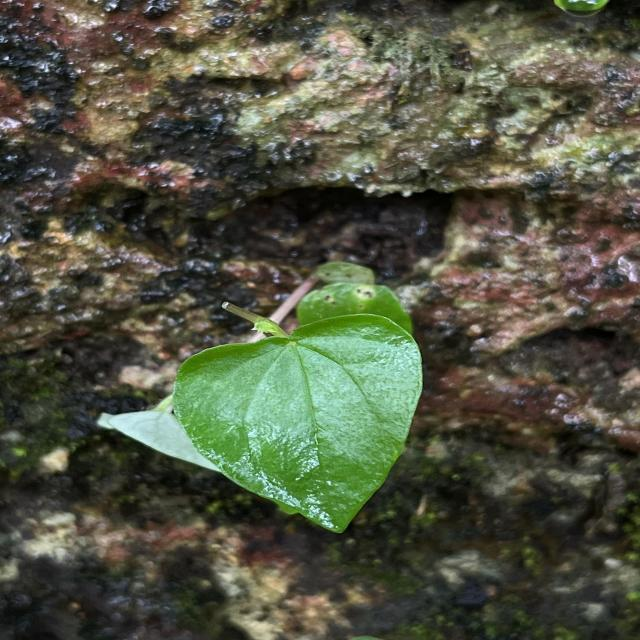Peperomia pellucida: (172, 312, 424, 534)
